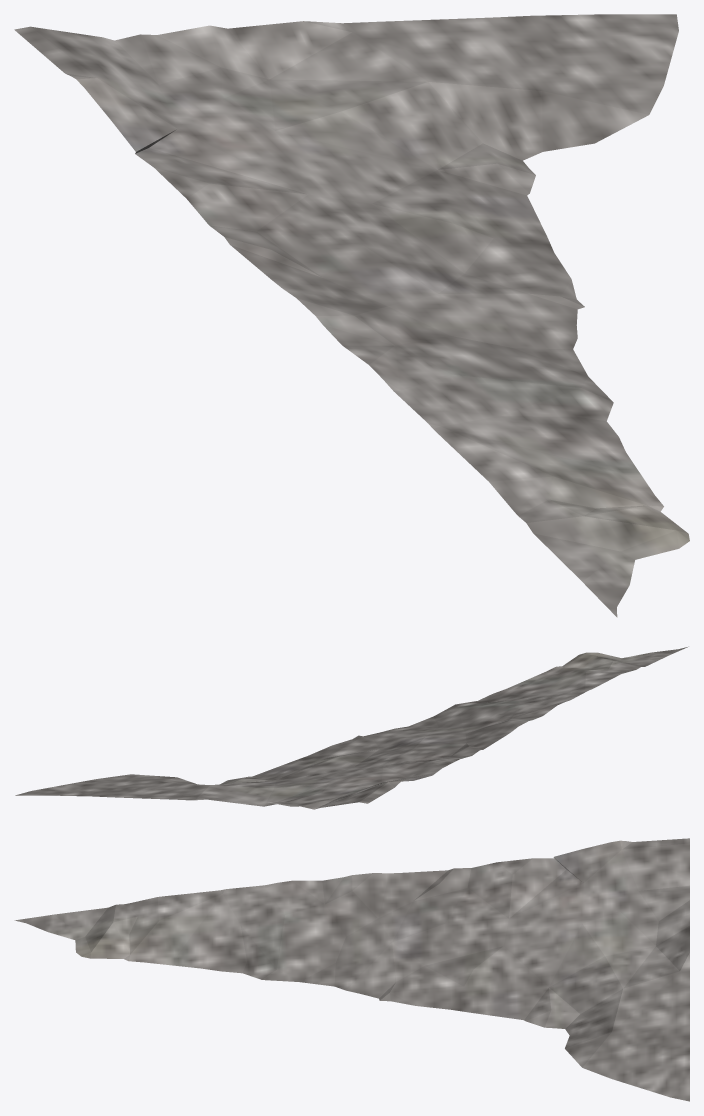
The picture shows the model from 3 angles, top to bottom: view 1: azimuth 30°, elevation 25°; view 2: azimuth 150°, elevation 25°; view 3: azimuth 270°, elevation 25°; orthographic projection. The views are drawn at different scales.
Bounding box in the file's own units: 0.3166 × 0.0669 × 0.4991.
Materials: 1 (1 with a texture image).
